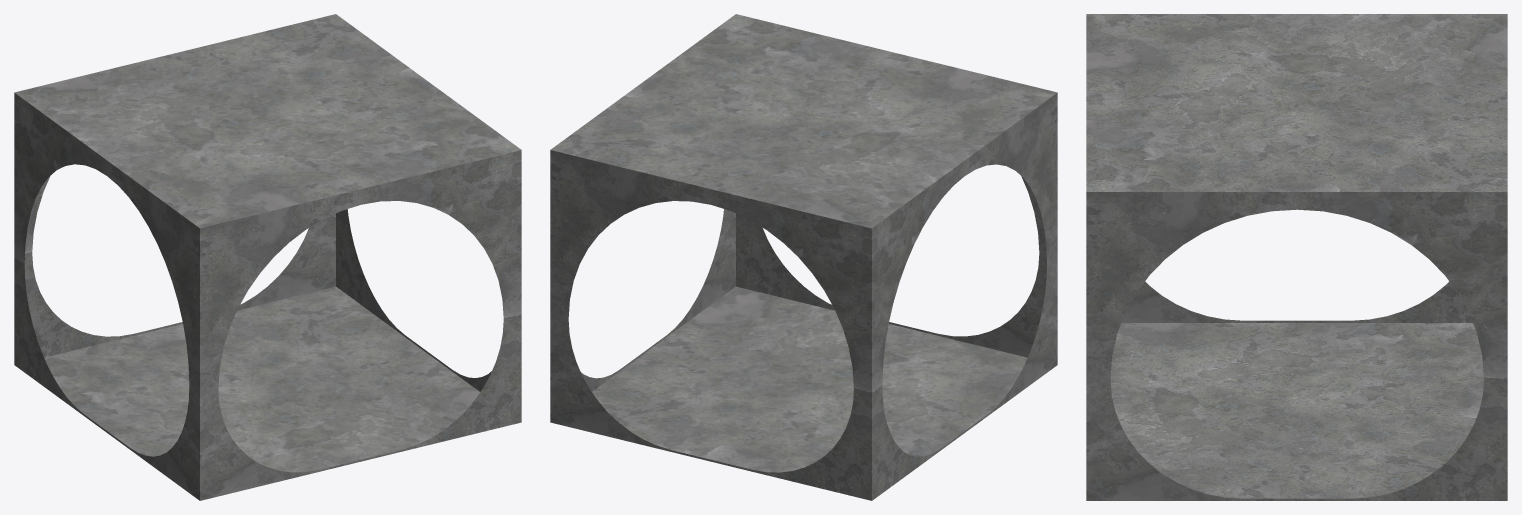
File: room_canal_4_holes.obj
3 renders of one model, left to right at view 1: azimuth 30°, elevation 25°; view 2: azimuth 150°, elevation 25°; view 3: azimuth 270°, elevation 25°, orthographic. The views are drawn at different scales.
Parts seen in each view (by area): view 1: soba_kanal.003_Cube.015; view 2: soba_kanal.003_Cube.015; view 3: soba_kanal.003_Cube.015.
Part boxes in pixels (x1,y1,x2,y2): soba_kanal.003_Cube.015: (14,14,521,500); soba_kanal.003_Cube.015: (550,14,1057,500); soba_kanal.003_Cube.015: (1086,14,1507,500).
Size of the model in its own units: 4.51 by 3.65 by 4.51.
